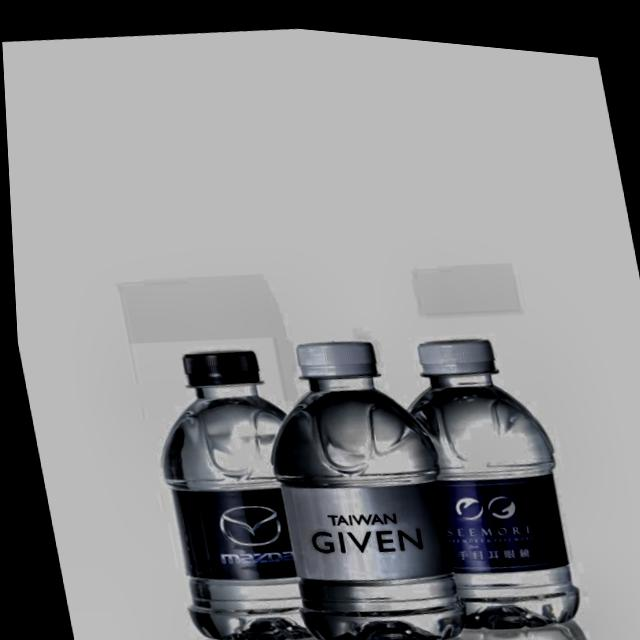Bottles: (318, 261, 610, 640), (220, 276, 461, 640), (113, 281, 323, 640)
